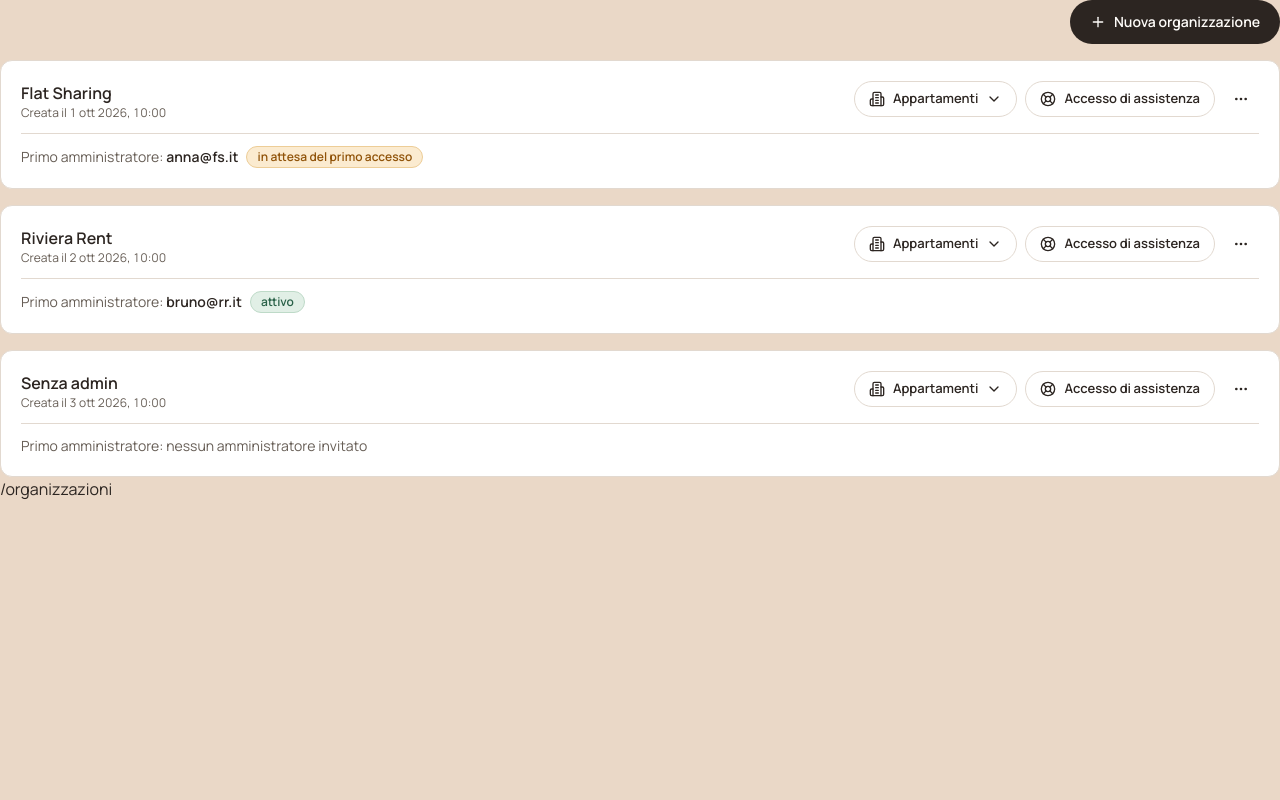
Scenario: Organizzazioni: creazione › nome ed email obbligatori; una sola chiamata, senza il nome dell'amministratore se vuoto; avviso e chiusura
The width and height of the screenshot is (1280, 800).
Click the button with test id "tenant-add-btn" at (1175, 22), box [1070, 0, 1279, 44]
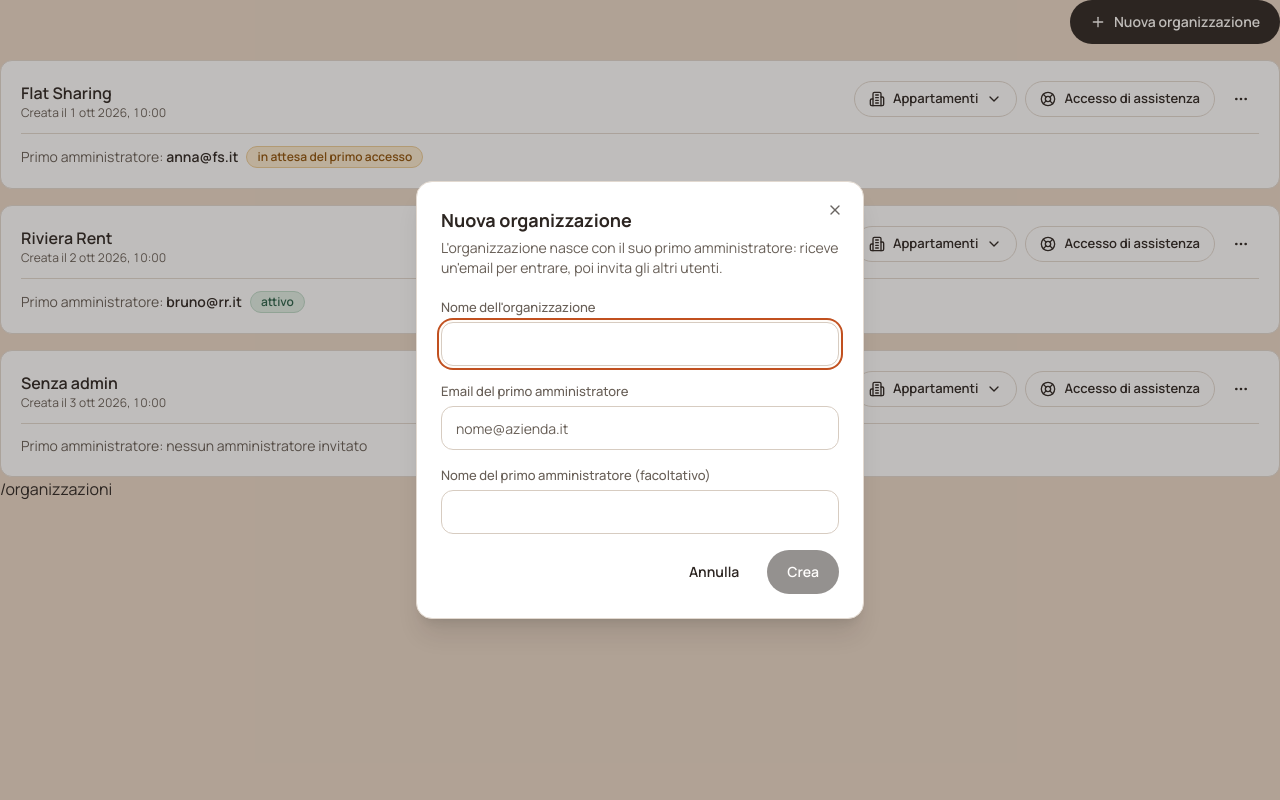
Expected: the button with test id "tenant-create-save" is disabled, [767, 550, 839, 594]
Type " Nuova Srl " into the field with test id "tenant-form-name" at (640, 344), box [441, 322, 839, 366]
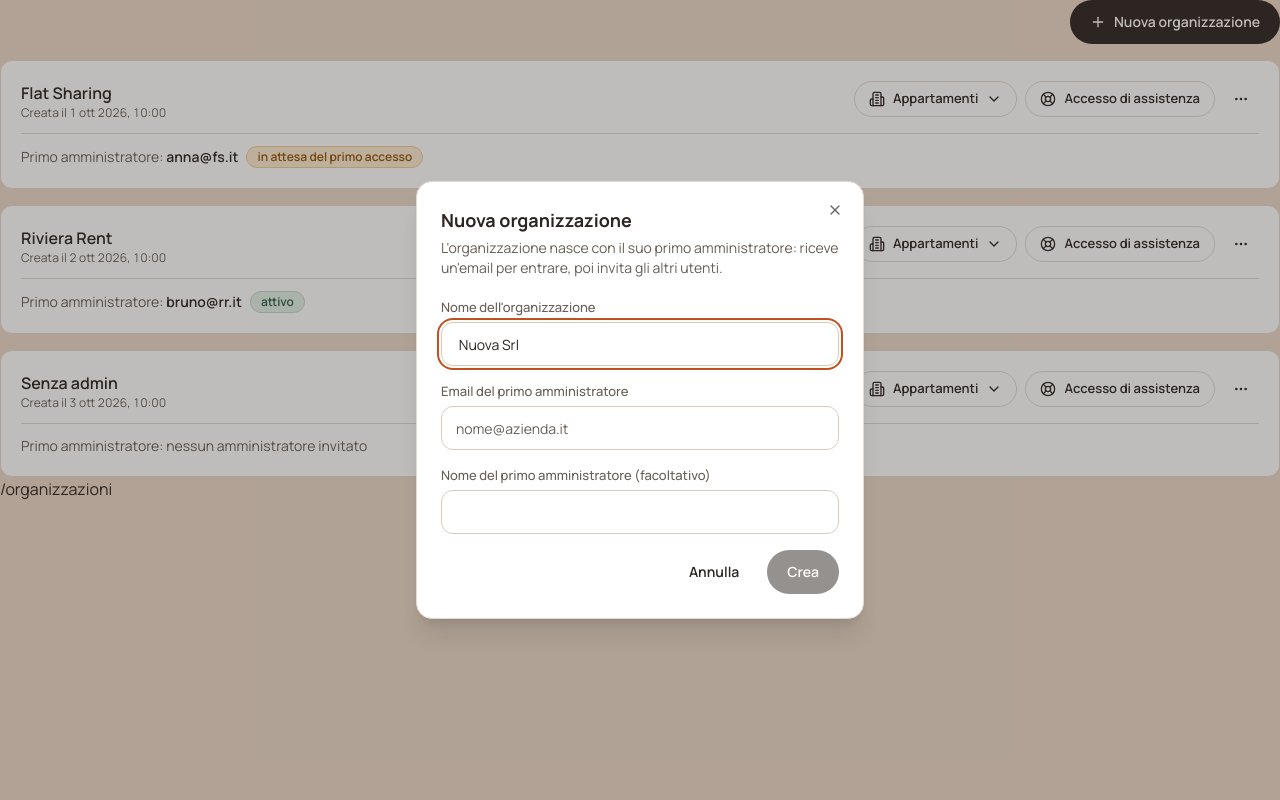
Type "capo@" into the field with test id "tenant-form-email" at (640, 428), box [441, 406, 839, 450]
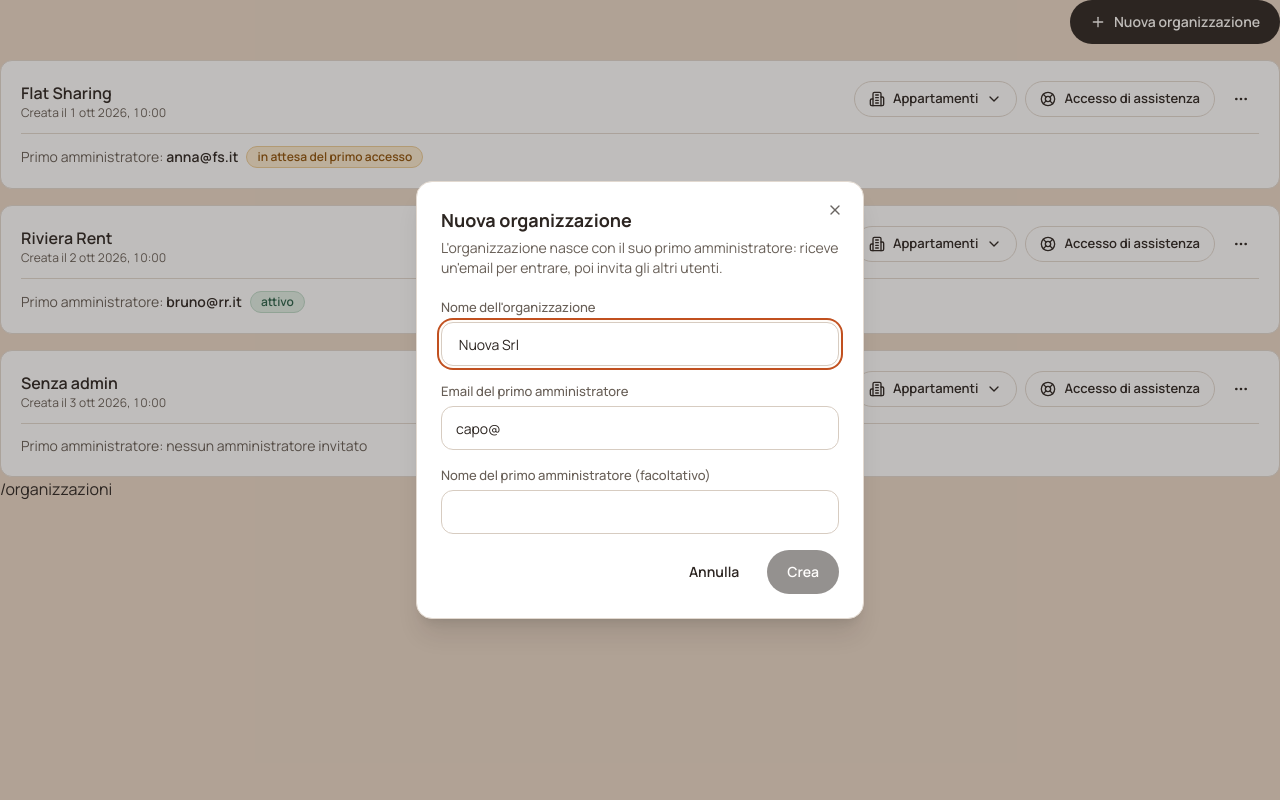
Expected: the button with test id "tenant-create-save" is disabled, [767, 550, 839, 594]
Replace the text in the field with test id "tenant-form-email" with "capo@nuova.it" at (640, 428), box [441, 406, 839, 450]
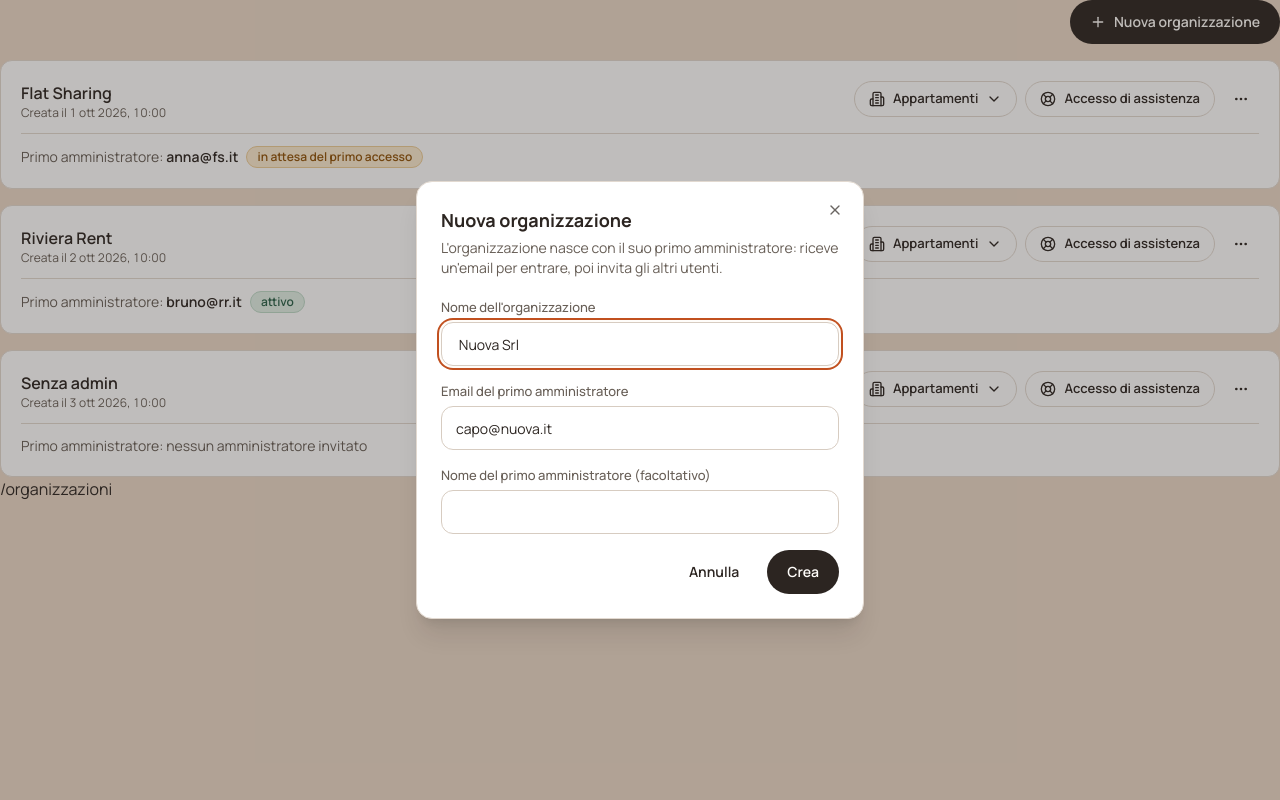
Click the button with test id "tenant-create-save" at (803, 572), box [767, 550, 839, 594]
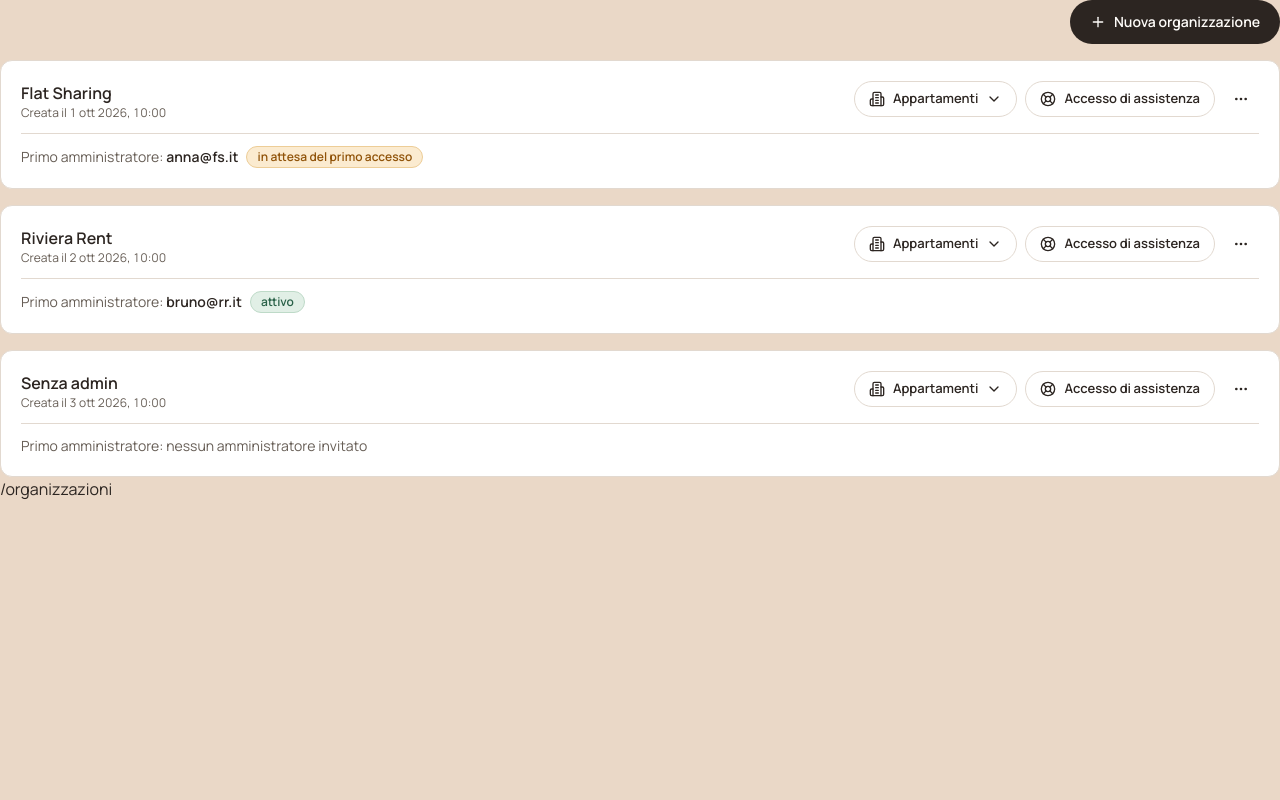
Expected: the dialog with test id "tenant-create-dialog" is gone
